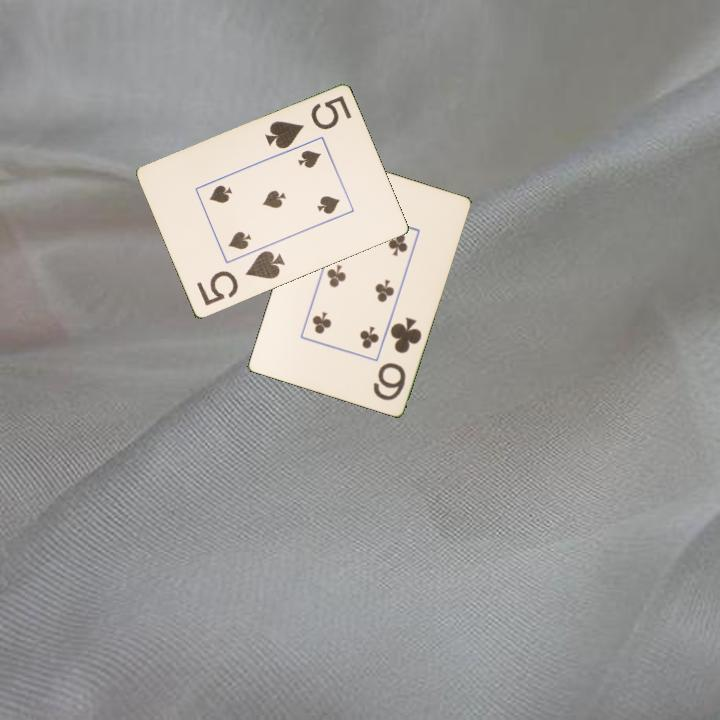5s: (193, 247, 288, 309), (261, 92, 355, 152)
6c: (369, 313, 424, 403)
